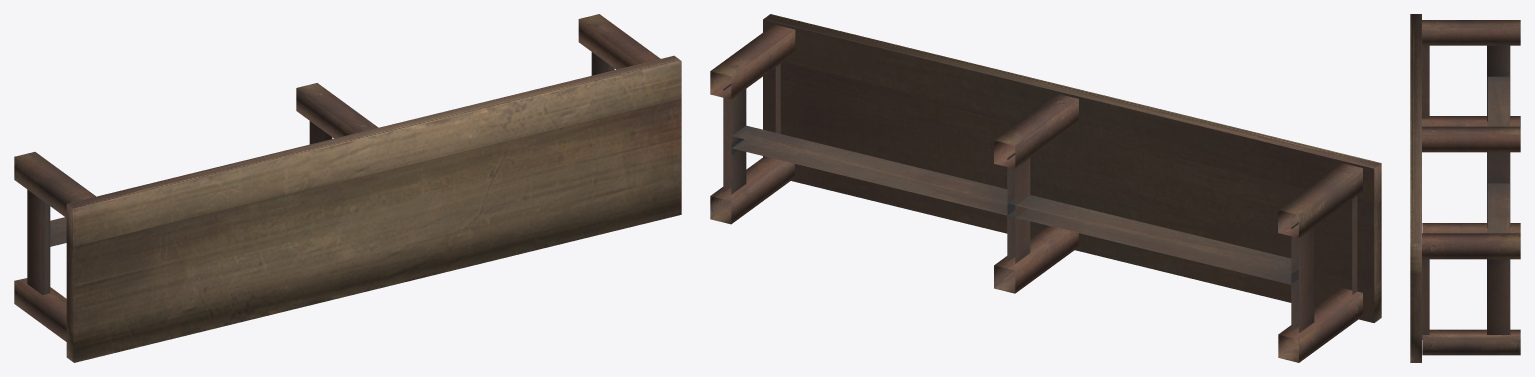
File: p_jun_bench_wood_02_LOD1.obj
3 views of the same model, side by side, from view 1: azimuth 30°, elevation 25°; view 2: azimuth 150°, elevation 25°; view 3: azimuth 270°, elevation 25° (orthographic). The views are drawn at different scales.
Visible parts, largest first — view 1: mtl_p_jun_bench_wood_01; view 2: mtl_p_jun_bench_wood_01; view 3: mtl_p_jun_bench_wood_01.
Part boxes in pixels (x1,y1,x2,y2): mtl_p_jun_bench_wood_01: [14, 14, 681, 362]; mtl_p_jun_bench_wood_01: [710, 14, 1381, 362]; mtl_p_jun_bench_wood_01: [1410, 14, 1520, 362].
Bounding box in the file's own units: 217 × 52.55 × 44.05.
